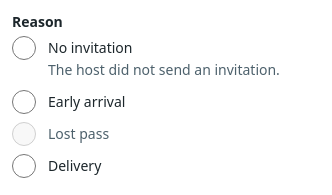
Scenario: RadioGroup › selects an option on click and reports the value
Click the text "Early arrival".
click(87, 102)  # box [48, 92, 125, 112]
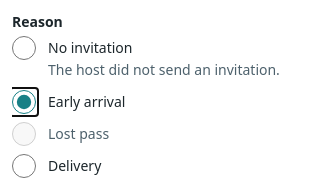
Now the radio button labelled "Early arrival" is checked, box [12, 90, 36, 114]
